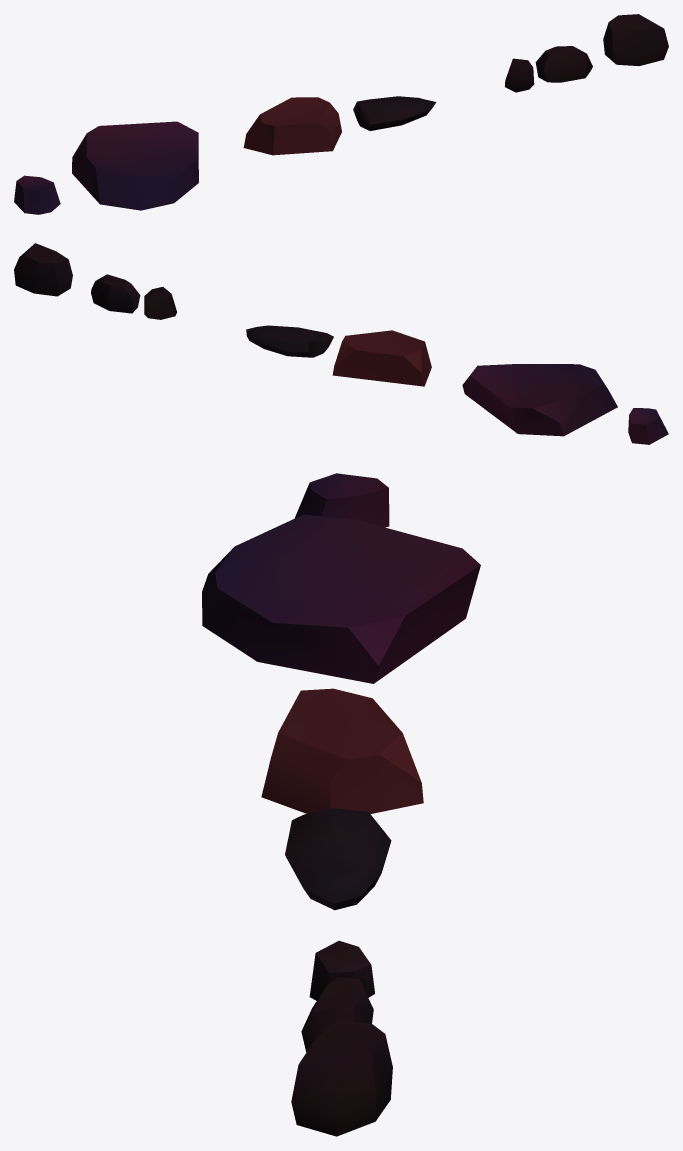
Rendered from rocks_baking_low.fbx.
3 views of the same model, one above another, from view 1: azimuth 30°, elevation 25°; view 2: azimuth 150°, elevation 25°; view 3: azimuth 270°, elevation 25° (orthographic). The views are drawn at different scales.
Visible parts, largest first — view 1: rock_sharp_up_1.002_low; view 2: rock_sharp_up_1.002_low; view 3: rock_sharp_up_1.002_low.
Part boxes in pixels (left/top/right/bottom): rock_sharp_up_1.002_low: left=14, top=14, right=668, bottom=214; rock_sharp_up_1.002_low: left=14, top=243, right=668, bottom=444; rock_sharp_up_1.002_low: left=202, top=473, right=480, bottom=1136.
Bounding box in the file's own units: 511 × 28.08 × 95.44.
